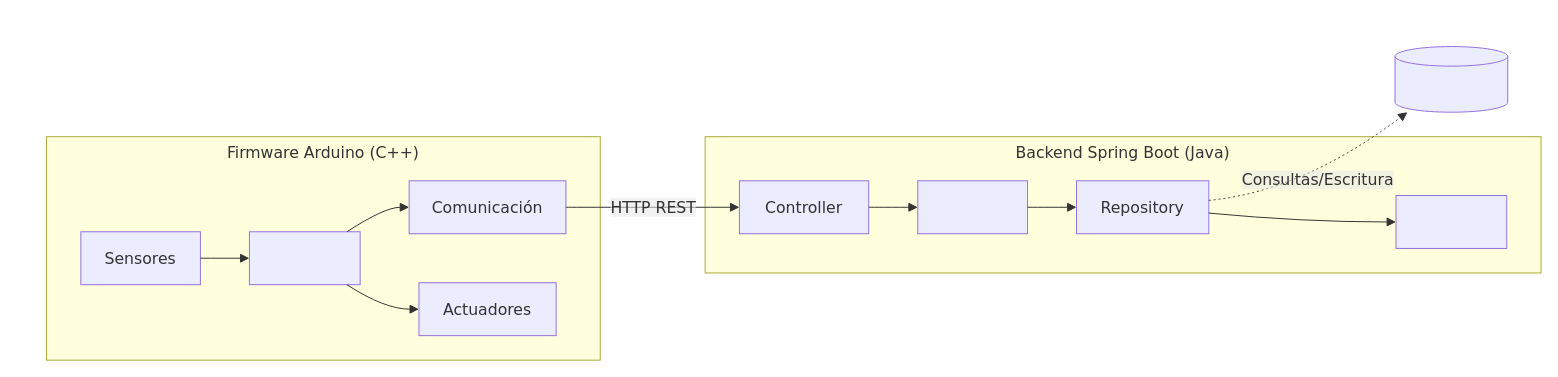
Image size: 1558x377. Some labels were removed from this diagram. The shapes that lost their labels are listed below. From the top down, each one's centre as x and y in pixels, then its label:
At point (1451, 79): "Base de Datos".
At point (972, 207): "Service".
At point (1451, 221): "Domain".
At point (304, 258): "Control".
